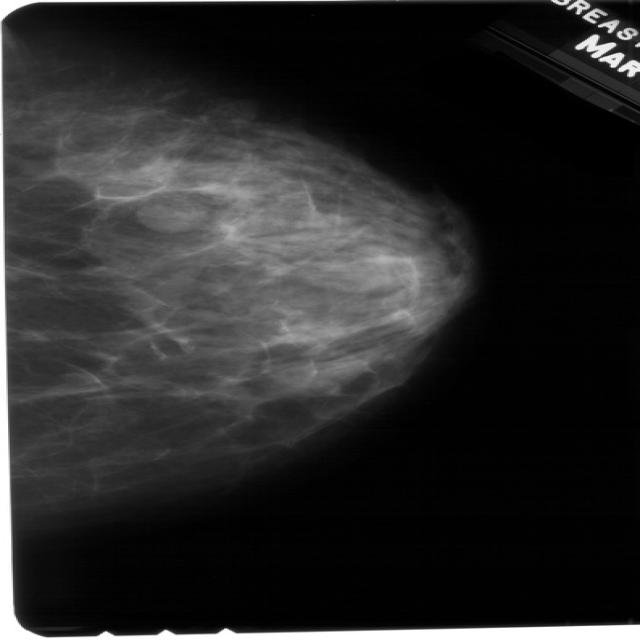tumour: (135, 200, 200, 232)
